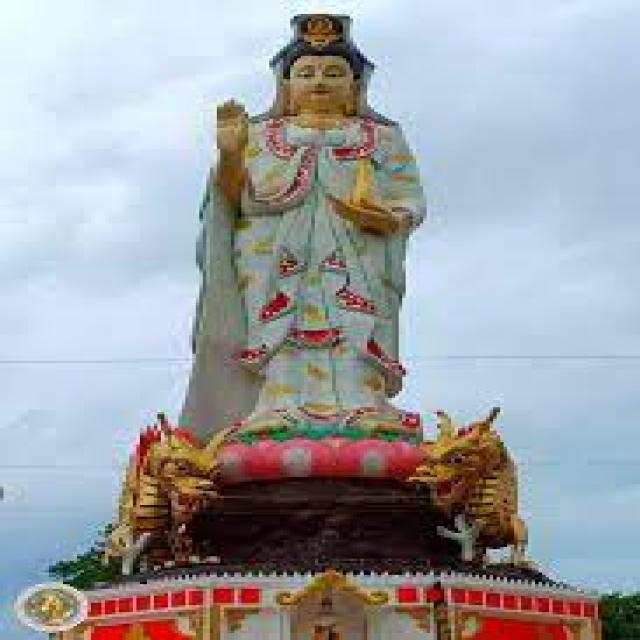Guan Yin: (196, 10, 426, 383)
